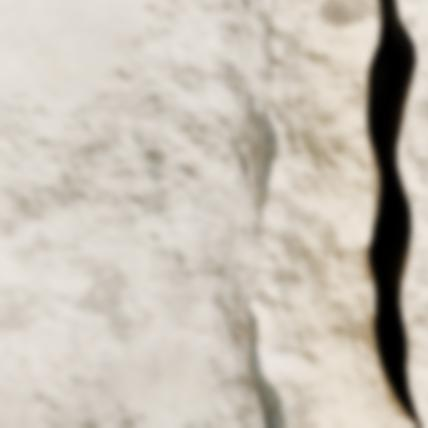brick: (0, 0, 271, 427)
crack: (360, 0, 427, 427)
